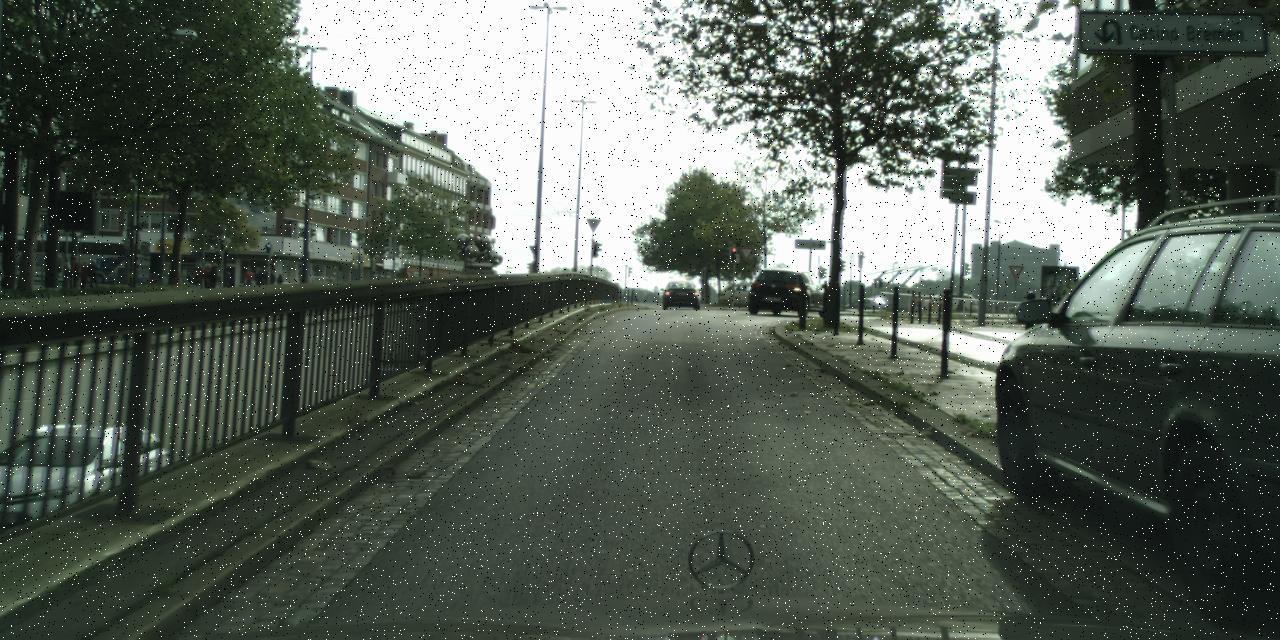ped: (67, 256, 81, 290), (58, 258, 71, 290), (78, 260, 90, 291), (87, 260, 99, 288), (399, 267, 410, 295), (202, 265, 213, 292), (208, 265, 218, 294), (193, 266, 204, 292), (243, 268, 253, 292), (254, 269, 263, 293), (275, 273, 283, 293), (267, 272, 274, 292), (428, 270, 434, 288)
